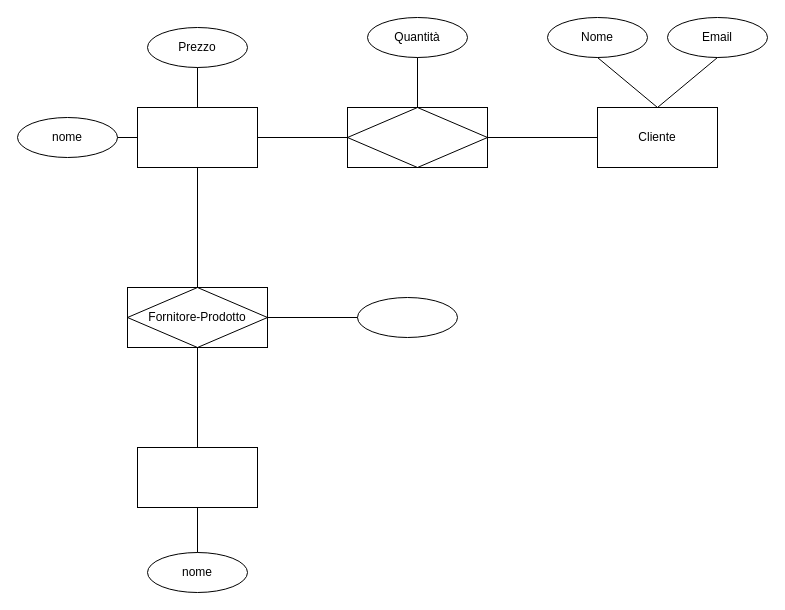
The diagram is 785 pixels wide and 610 high, and some of its shapes have lost their labels. The centre of each missing label's shape, as x and y in pixels:
"Fornitore" goes at [197,477].
"Ordine" goes at [417,137].
"Prodotto" goes at [197,137].
"Quantita_stock" goes at [407,317].
